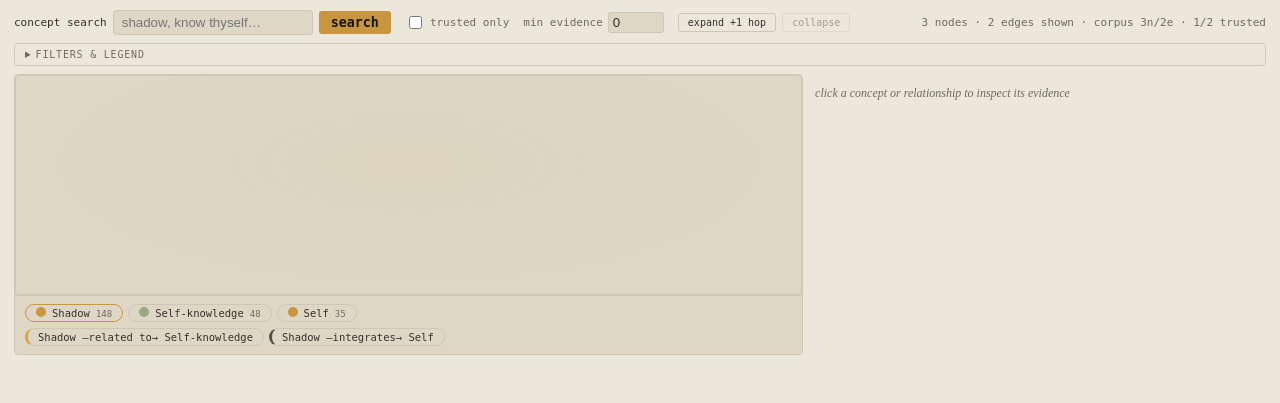
Scenario: GraphTab › opens an edge and displays heuristic score with support count
Expected: the button with test id "gnode-shadow" is shown, [25,304,123,322]
Click the button with test id "gedge-t1abc123". click: coordinates (144, 337)
box: [25,328,264,346]
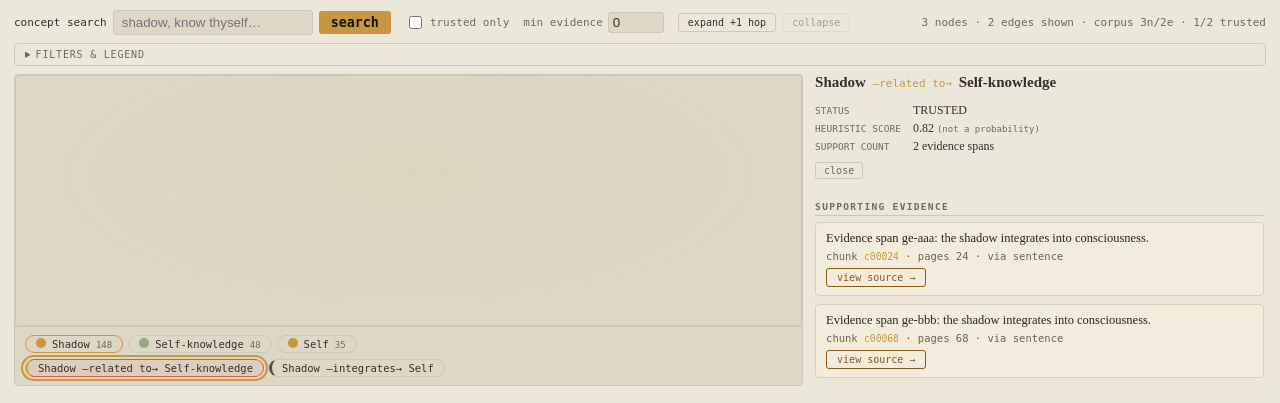
Result: the element with test id "edge-detail" shows "TRUSTED" at [913,103,967,117]
Result: the element with test id "edge-confidence" shows "0.82" at [913,121,934,135]
Result: the element with test id "edge-detail" shows "(not a probability)" at [937,124,1040,134]
